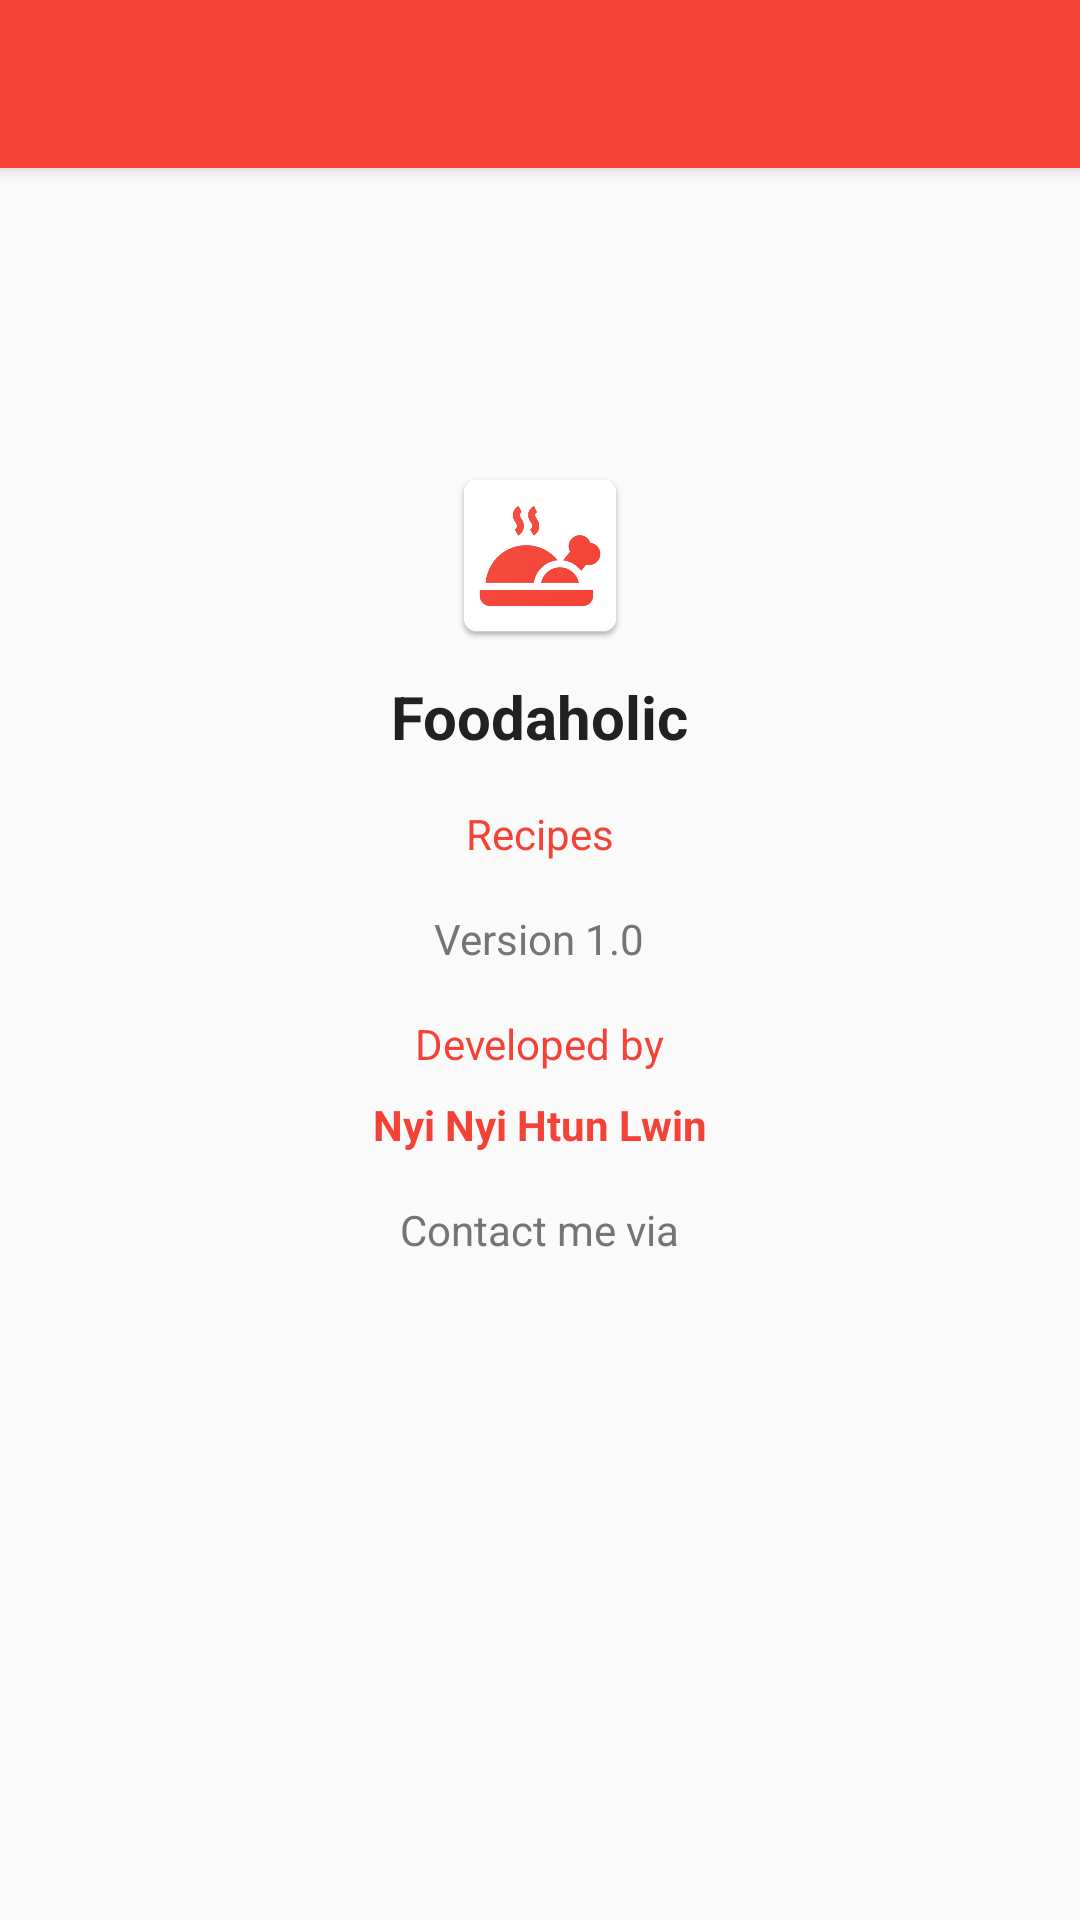

Icon click points for this 1080px x 1920px phone screenshot, format point (x, y):
app: point (540, 563)
